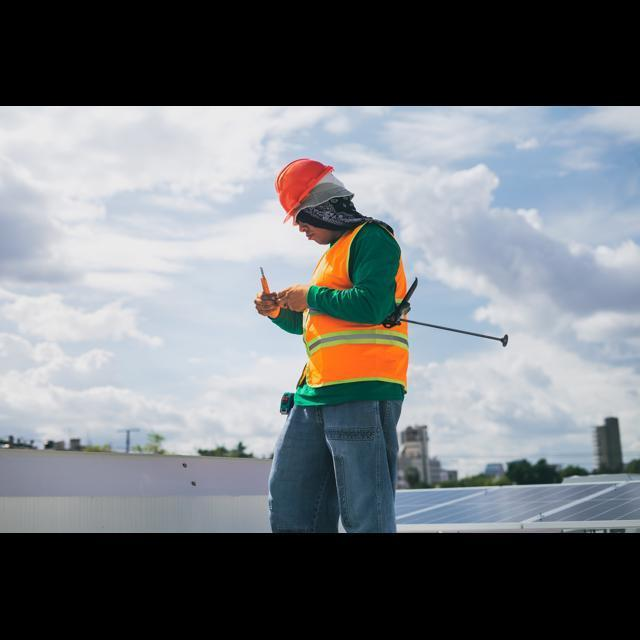Capacete: (275, 158, 332, 222)
Colete: (298, 309, 408, 391)
